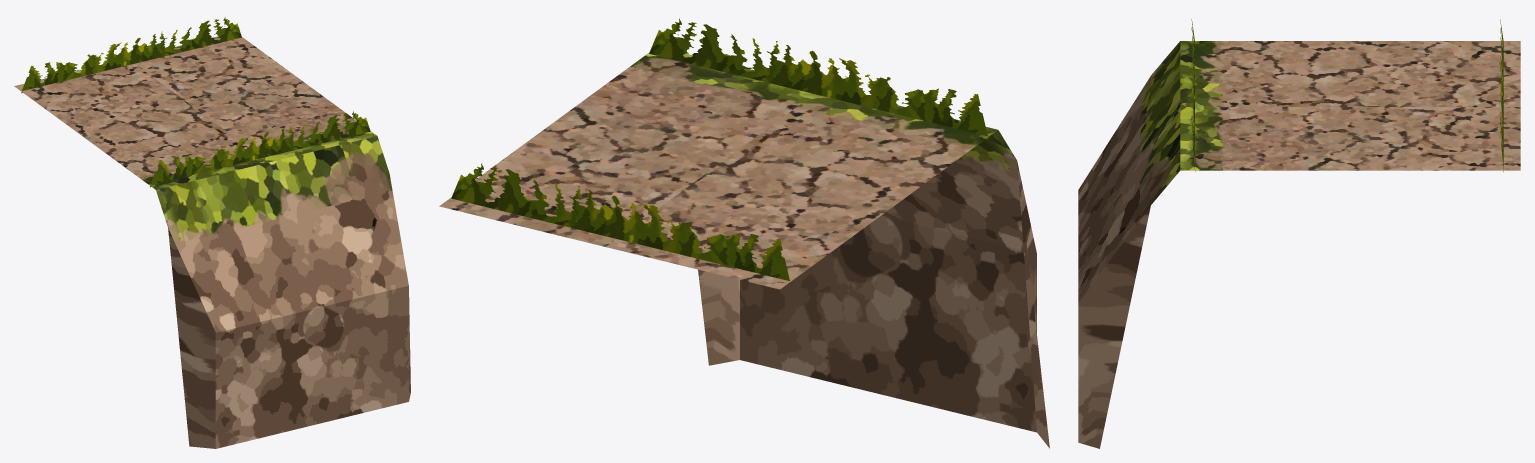
File: terreno_08_uno.FBX
The picture shows the model from 3 angles, left to right: view 1: azimuth 30°, elevation 25°; view 2: azimuth 150°, elevation 25°; view 3: azimuth 270°, elevation 25°; orthographic projection. The views are drawn at different scales.
Visible parts, largest first — view 1: Terreno015; view 2: Terreno015; view 3: Terreno015.
Boxes of the visible parts, bbox=[...] form: Terreno015: bbox=[14, 17, 410, 448]; Terreno015: bbox=[439, 18, 1049, 448]; Terreno015: bbox=[1078, 19, 1520, 448].
Bounding box in the file's own units: 2 × 2.88 × 2.23.
1 material, 1 textured.
